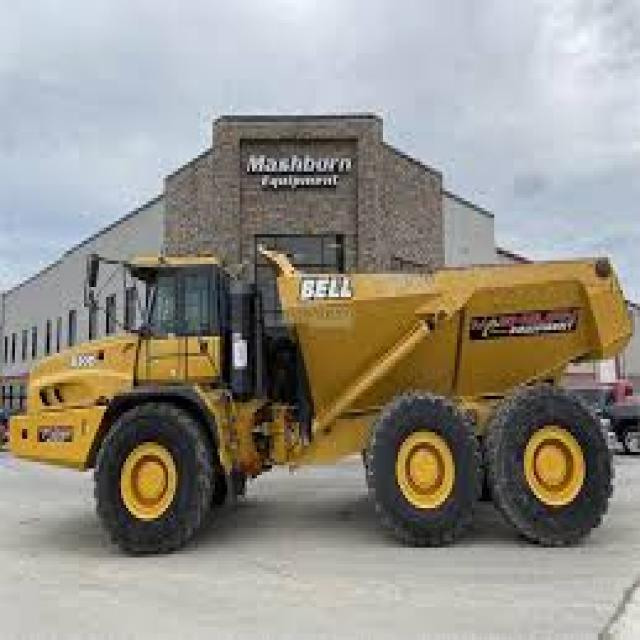dump_truck: (7, 188, 635, 591)
